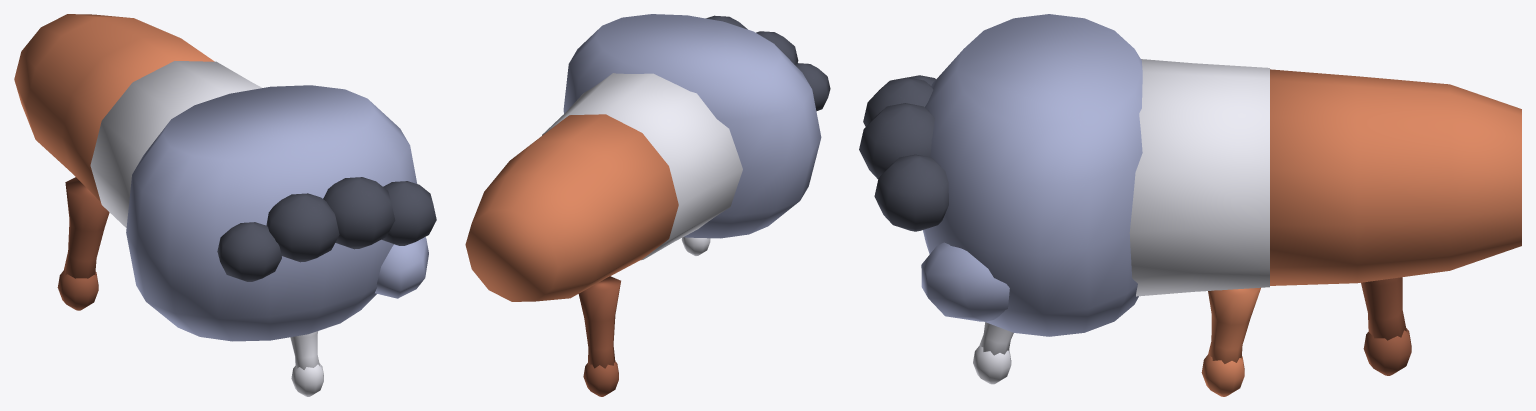
File: molten_fist.glb
The picture shows the model from 3 angles, left to right: view 1: azimuth 30°, elevation 25°; view 2: azimuth 150°, elevation 25°; view 3: azimuth 270°, elevation 25°; orthographic projection. The views are drawn at different scales.
Visible parts, largest first — view 1: mitt, sleeve, knuckles, drips; view 2: sleeve, mitt, drips, knuckles; view 3: sleeve, mitt, knuckles, drips.
Part boxes in pixels (bbox=[...]): mitt: bbox=[126, 85, 428, 341]; sleeve: bbox=[14, 14, 261, 227]; knuckles: bbox=[217, 177, 436, 281]; drips: bbox=[57, 177, 323, 396]; sleeve: bbox=[465, 73, 742, 301]; mitt: bbox=[563, 14, 821, 238]; drips: bbox=[578, 237, 710, 396]; knuckles: bbox=[706, 15, 830, 111]; sleeve: bbox=[1129, 59, 1521, 296]; mitt: bbox=[921, 14, 1142, 336]; knuckles: bbox=[859, 75, 948, 231]; drips: bbox=[973, 277, 1411, 396].
Size of the model in its own units: 0.36 by 0.354 by 0.645.
